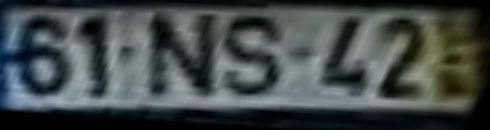1: (73, 15, 115, 102)
2: (376, 15, 435, 103)
4: (315, 17, 380, 104)
6: (13, 13, 77, 101)
N: (144, 12, 227, 101)
S: (217, 13, 292, 100)
